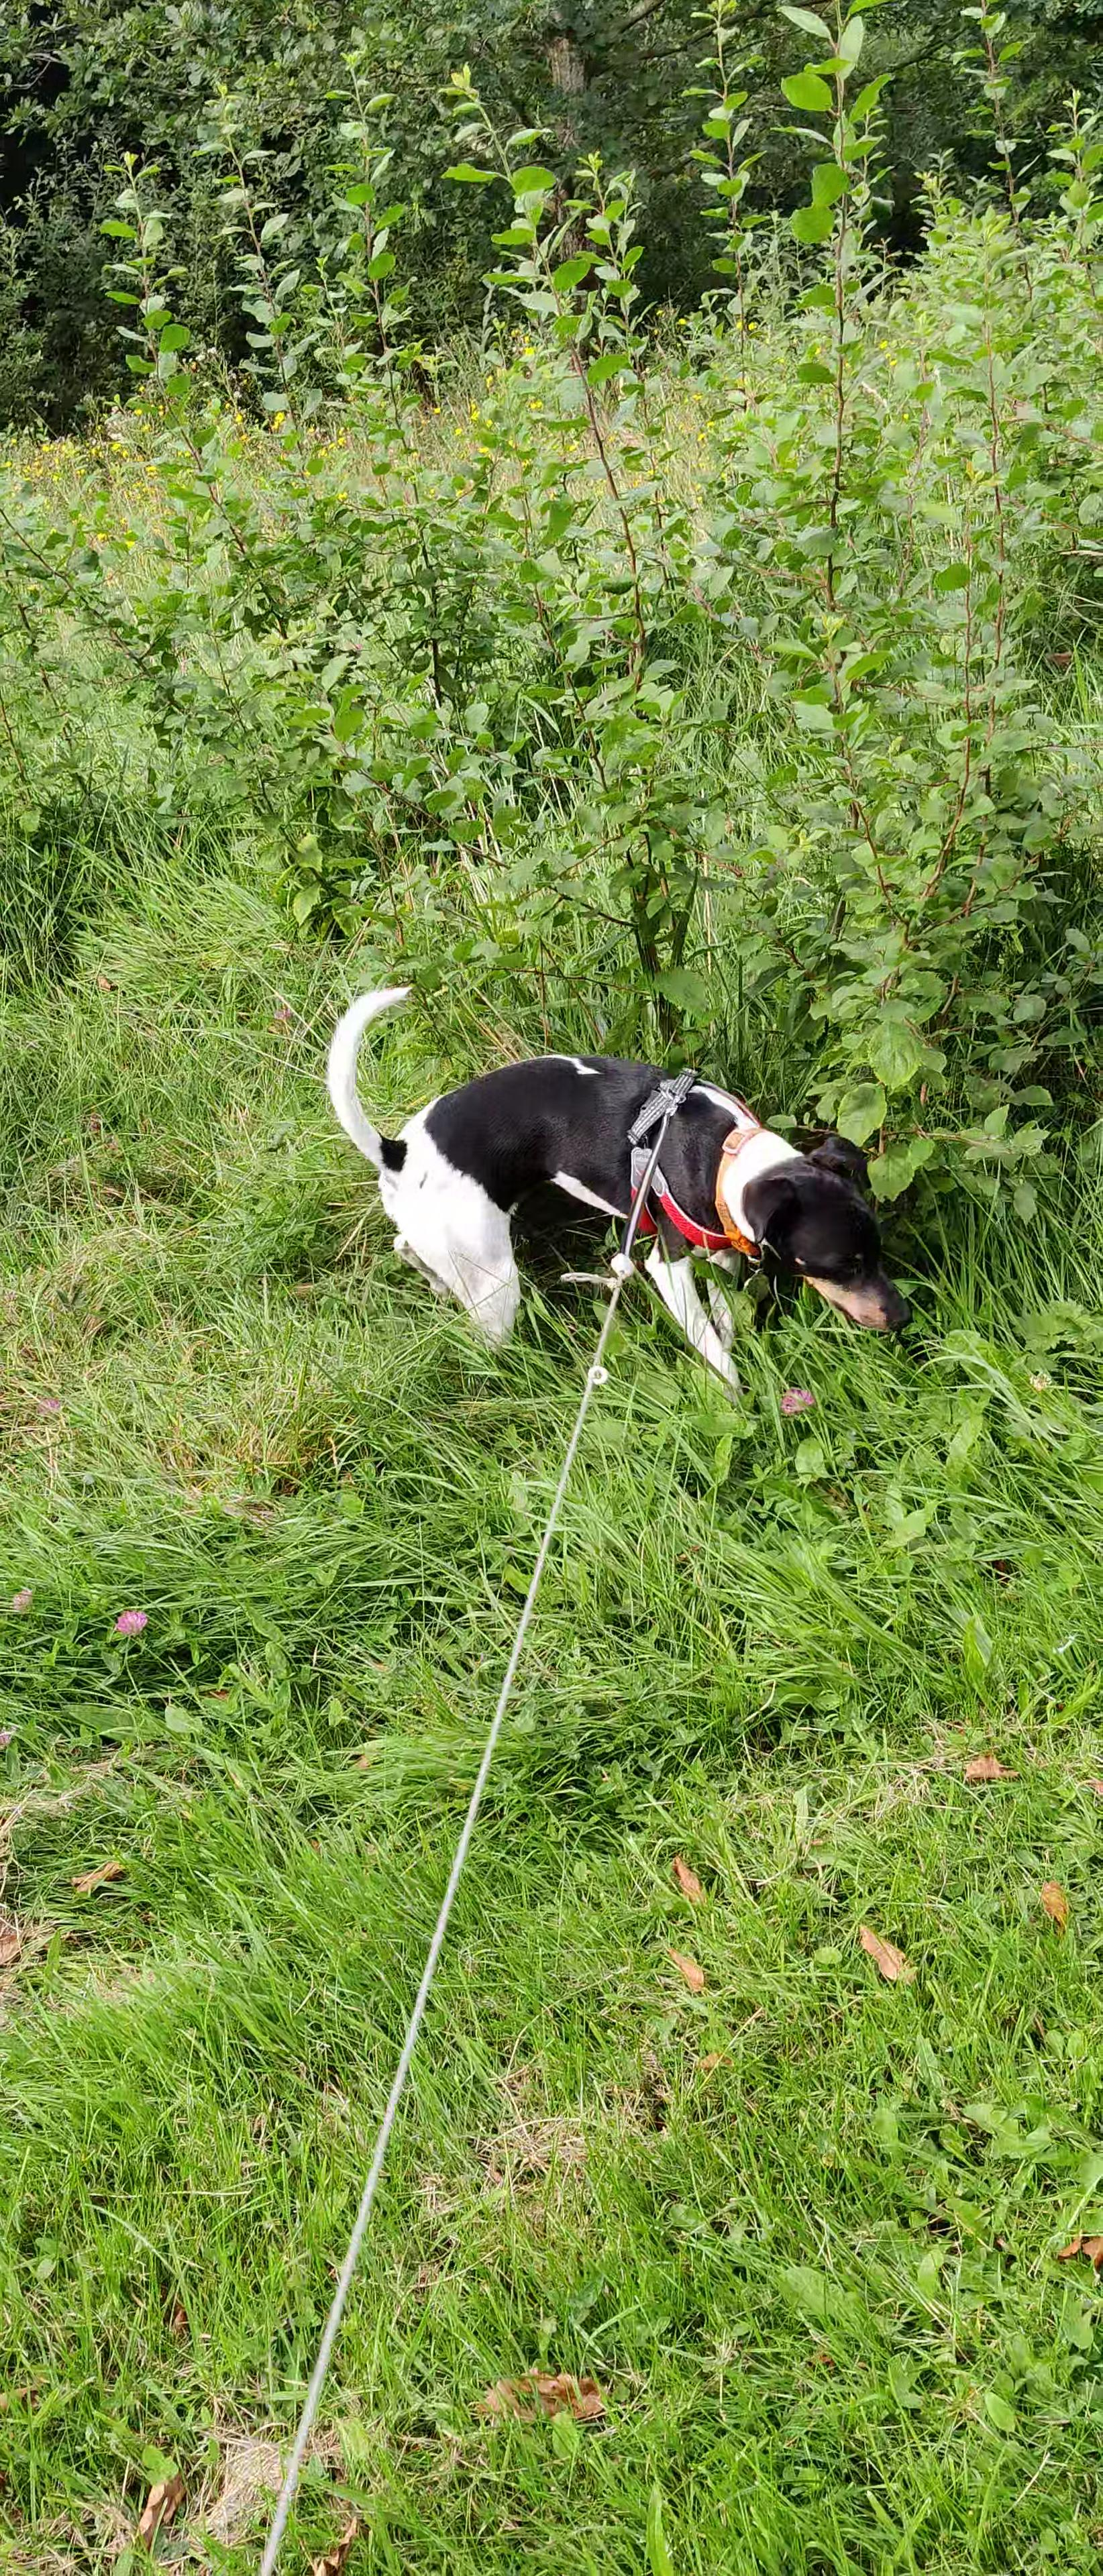Dog: (309, 961, 930, 1405)
